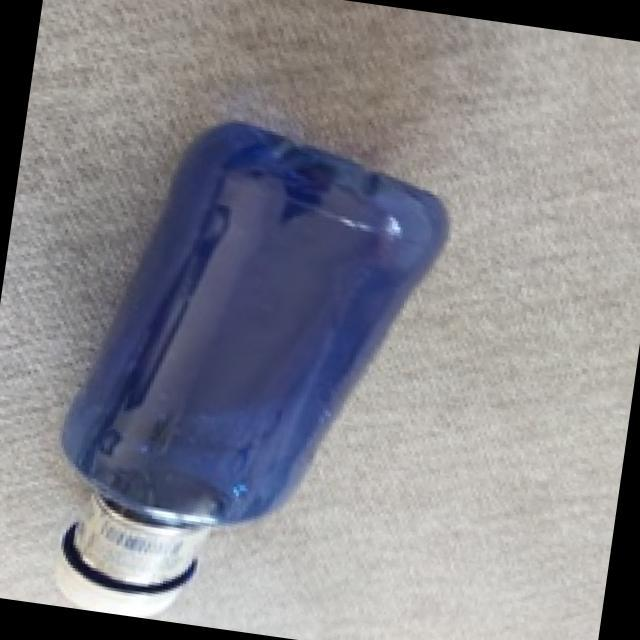good: (10, 83, 487, 640)
